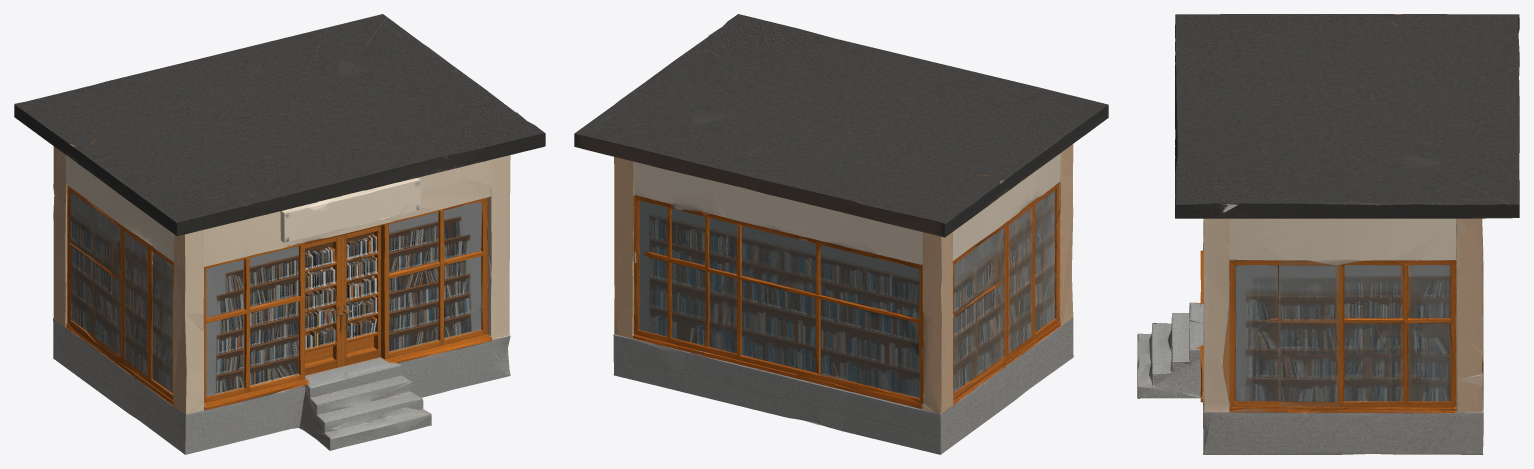
Rendered from library-pavilion.raw.glb.
3 views of the same model, side by side, from view 1: azimuth 30°, elevation 25°; view 2: azimuth 150°, elevation 25°; view 3: azimuth 270°, elevation 25° (orthographic). The views are drawn at different scales.
Bounding box in the file's own units: 1.9 × 1.22 × 1.61.
Materials: 1 (1 with a texture image).
